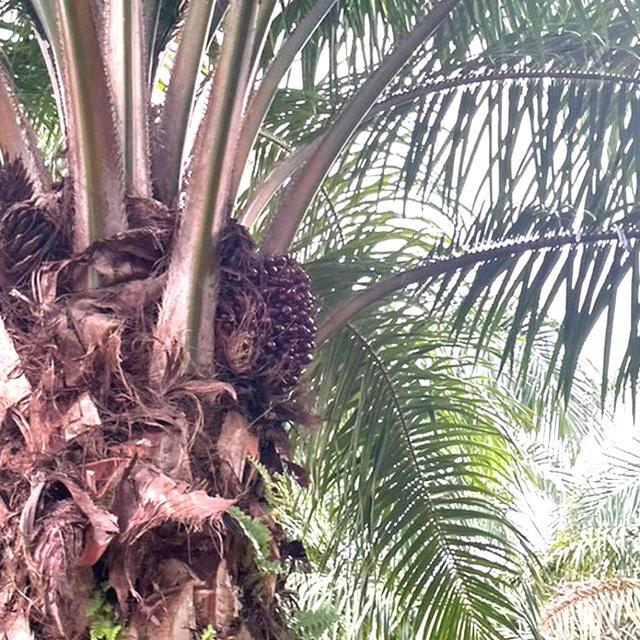ripe: (224, 248, 322, 383)
